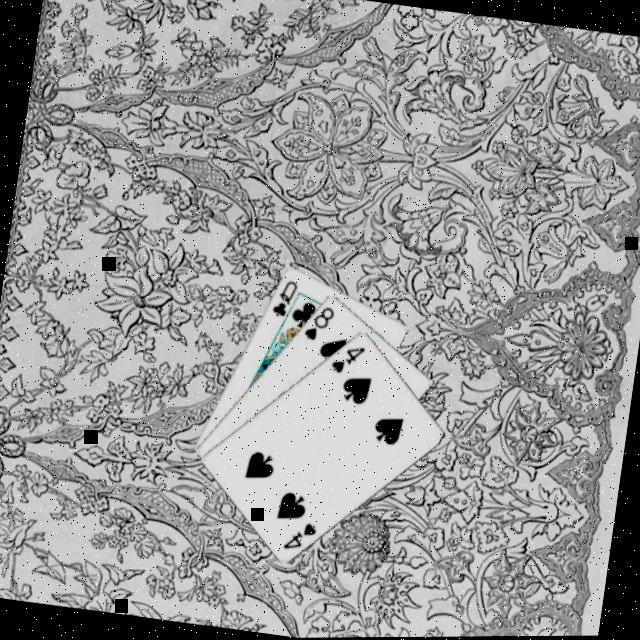4S: (324, 342, 366, 382), (276, 518, 318, 558)
8S: (296, 302, 336, 348)
QC: (266, 277, 300, 324)
